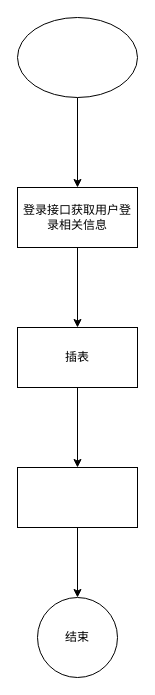
This 155x695 diagram has some shape labels left out. The centre of each missing label's shape, as x and y in pixels:
后台读表显示 （区分前台还是后台）: point 77,497
点击登录: point 77,57
